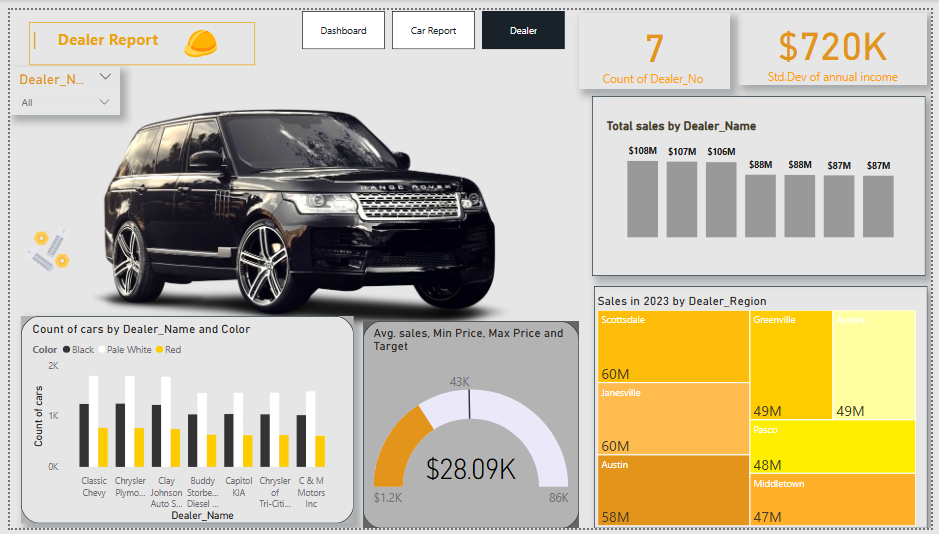

The dashboard page shown, as its layout file describes it:
{"tool":"powerbi","page":{"name":"Dealer","canvas":[1280,720],"ordinal":2},"visuals":[{"type":"shape","box":[26.6,17.3,313.5,59.8],"z":0,"group":"g1"},{"type":"textbox","box":[26.7,5,331.7,75],"z":1000,"group":"g1"},{"type":"card","fields":{"Values":["Count(Dealers.Dealer_No )"]},"box":[790,5,210,105],"z":2000,"group":"g1"},{"type":"image","box":[0,110,808.3,346.7],"z":3000,"group":"g1"},{"type":"shape","box":[14.6,425.9,462.3,288.3],"z":5000,"group":"g1"},{"type":"clusteredColumnChart","fields":{"Y":["car sales.Count of cars"],"Series":["Cars.Color"],"Category":["Dealers.Dealer_Name"]},"box":[26.6,432.5,437,283],"z":6000,"group":"g1"},{"type":"shape","box":[811.7,383.4,463.3,336.7],"z":7000,"group":"g1"},{"type":"shape","box":[808.3,120,463.3,250],"z":8000,"group":"g1"},{"type":"shape","box":[490.2,432.5,300.2,288.3],"z":9000,"group":"g1"},{"type":"gauge","fields":{"MinValue":["car sales.Min Price"],"MaxValue":["car sales.Max Price"],"Y":["car sales.Avg. sales"],"TargetValue":["car sales.Target"]},"box":[499.5,437.9,280.3,276.3],"z":10000,"group":"g1"},{"type":"slicer","fields":{"Values":["Dealers.Dealer_Name"]},"box":[0,80,153.3,66.7],"z":11000,"group":"g1"},{"type":"treemap","fields":{"Group":["Dealers.Dealer_Region"],"Values":["car sales.Sales in 2023"]},"box":[811.7,392.7,451.7,328.1],"z":12000,"group":"g1"},{"type":"columnChart","fields":{"Y":["car sales.Total sales"],"Category":["Dealers.Dealer_Name"]},"box":[823.3,150,431.7,216.7],"z":13000,"group":"g1"},{"type":"card","fields":{"Values":["car sales.Std.Dev of annual income"]},"box":[1011.7,5,263.3,100],"z":14000,"group":"g1"},{"type":"image","box":[0,296.7,103.3,73.3],"z":15000,"group":"g1"},{"type":"image","box":[231.7,16.7,66.7,60],"z":16000,"group":"g1"},{"type":"pageNavigator","box":[405,1.7,365,53.3],"z":17000,"group":"g1"},{"type":"group","id":"g1","title":"Group 1","box":[0,1.7,1275,719.1],"z":17001}]}

Visuals, with their boxes in screenshot pixels (x1, y1, x2, y2), scaled from the page's 1280x720 canvas onto the 939x534 screenshot:
shape: Rect(20, 13, 249, 57)
textbox: Rect(20, 4, 263, 59)
card - Count(Dealers.Dealer_No ): Rect(580, 4, 734, 82)
image: Rect(0, 82, 593, 339)
shape: Rect(11, 316, 350, 530)
clusteredColumnChart - car sales.Count of cars x Cars.Color: Rect(20, 321, 340, 531)
shape: Rect(595, 284, 935, 533)
shape: Rect(593, 89, 933, 274)
shape: Rect(360, 321, 580, 533)
gauge - car sales.Min Price x car sales.Max Price: Rect(366, 325, 572, 530)
slicer - Dealers.Dealer_Name: Rect(0, 59, 112, 109)
treemap - Dealers.Dealer_Region x car sales.Sales in 2023: Rect(595, 291, 927, 533)
columnChart - car sales.Total sales x Dealers.Dealer_Name: Rect(604, 111, 921, 272)
card - car sales.Std.Dev of annual income: Rect(742, 4, 935, 78)
image: Rect(0, 220, 76, 274)
image: Rect(170, 12, 219, 57)
pageNavigator: Rect(297, 1, 565, 41)
"Group 1" group: Rect(0, 1, 935, 533)
